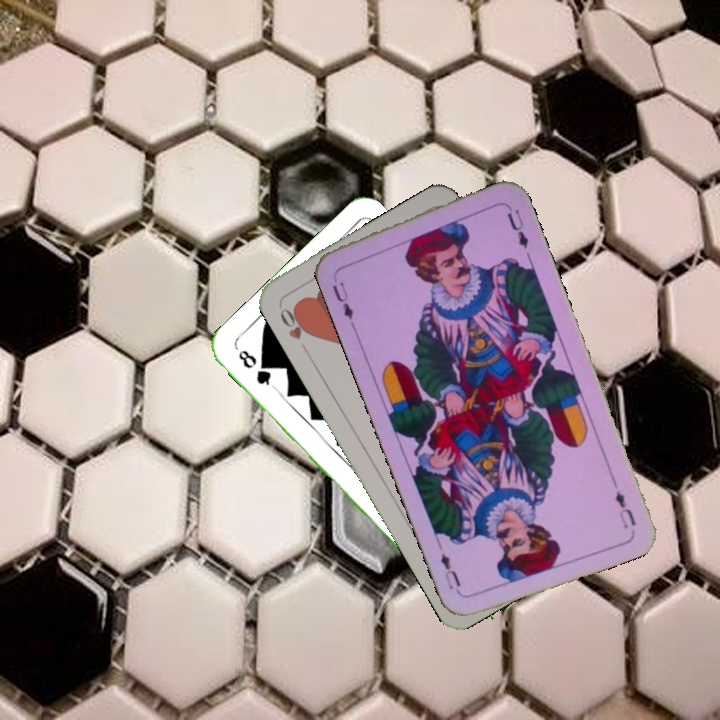EU: (328, 278, 357, 328), (610, 487, 639, 532)
G8: (234, 345, 278, 392)
HO: (275, 302, 314, 343)
